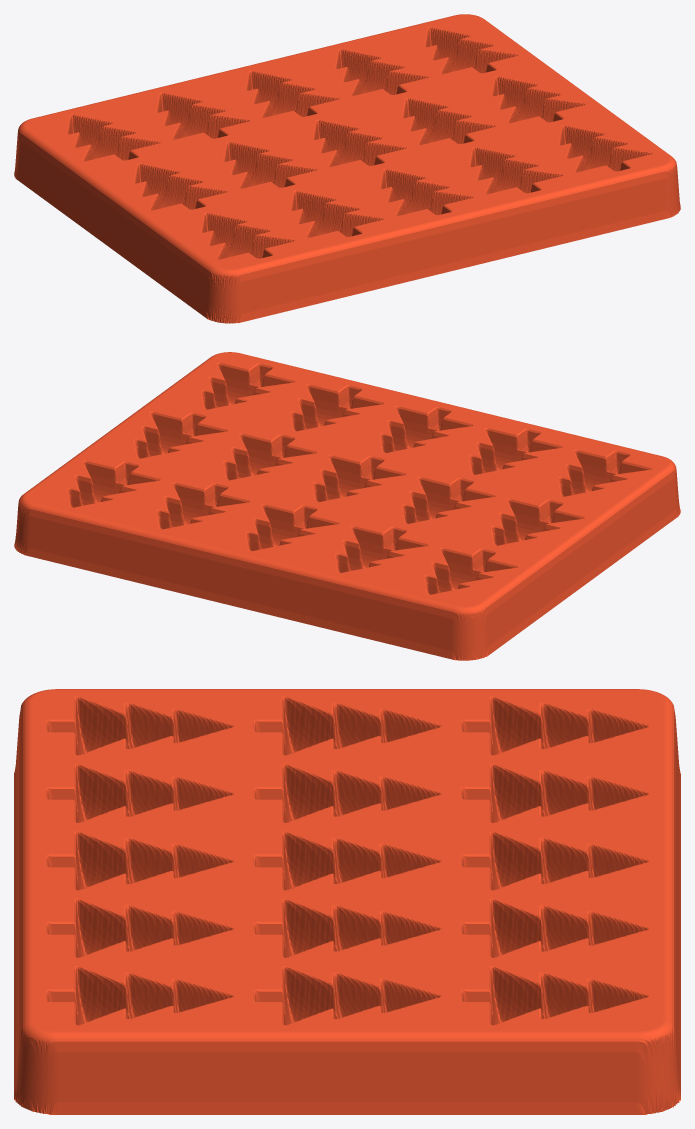
The model's file is mold.glb.
3 renders of one model, top to bottom at view 1: azimuth 30°, elevation 25°; view 2: azimuth 150°, elevation 25°; view 3: azimuth 270°, elevation 25°, orthographic. The views are drawn at different scales.
Parts seen in each view (by area): view 1: geometry_0; view 2: geometry_0; view 3: geometry_0.
Boxes of the visible parts, x1,y1,x2,y2 form: geometry_0: [14, 14, 680, 323]; geometry_0: [14, 352, 680, 660]; geometry_0: [14, 689, 680, 1114].
Size of the model in its own units: 0.1758 by 0.0175 by 0.1392.
